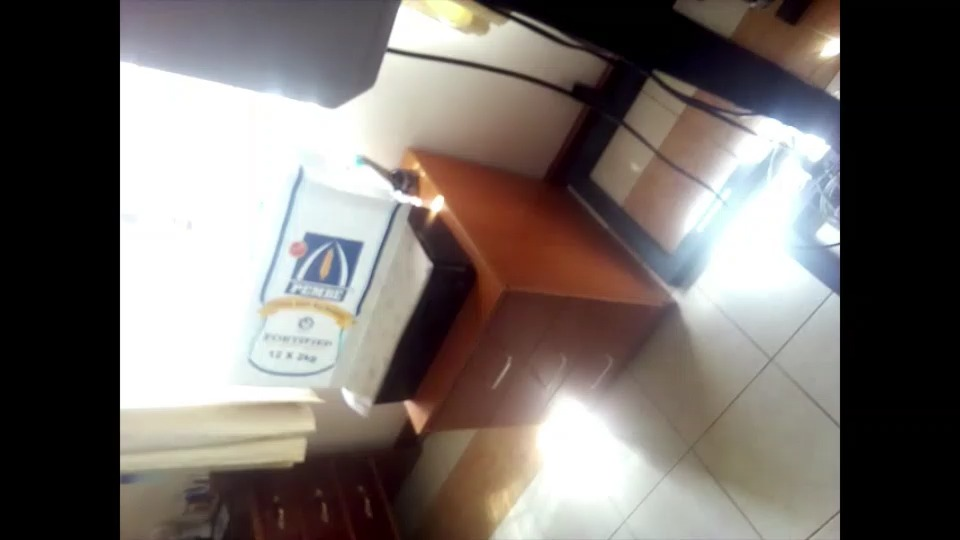wheat_flour_blue_label: (229, 153, 408, 397)
